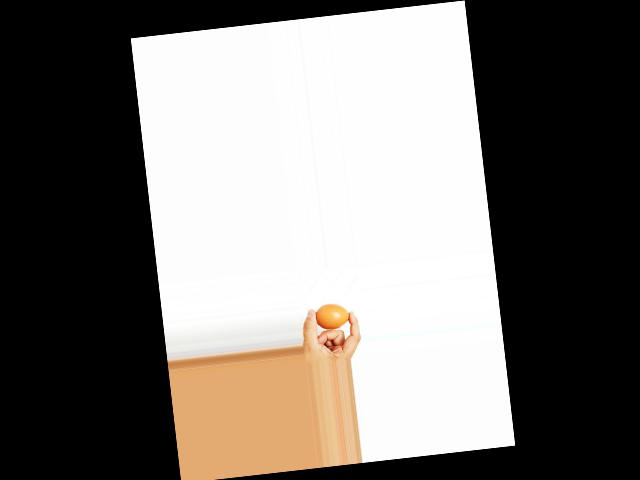egg: (314, 301, 350, 331)
